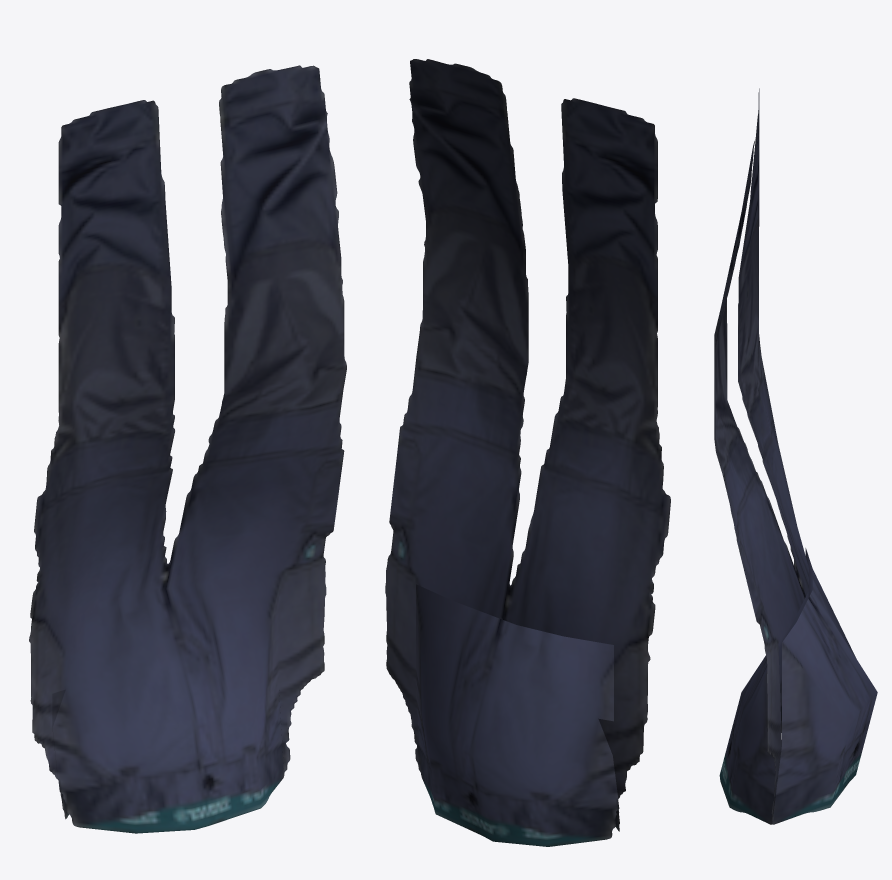
Rendered from Clothing5.fbx.
3 renders of one model, left to right at view 1: azimuth 30°, elevation 25°; view 2: azimuth 150°, elevation 25°; view 3: azimuth 270°, elevation 25°, orthographic. The views are drawn at different scales.
Parts seen in each view (by area): view 1: Cloth.005; view 2: Cloth.005; view 3: Cloth.005.
Boxes of the visible parts, x1,y1,x2,y2 form: Cloth.005: (29,65,346,833); Cloth.005: (385,59,670,846); Cloth.005: (714,88,877,824).
Size of the model in its own units: 43.23 by 107 by 22.13.
